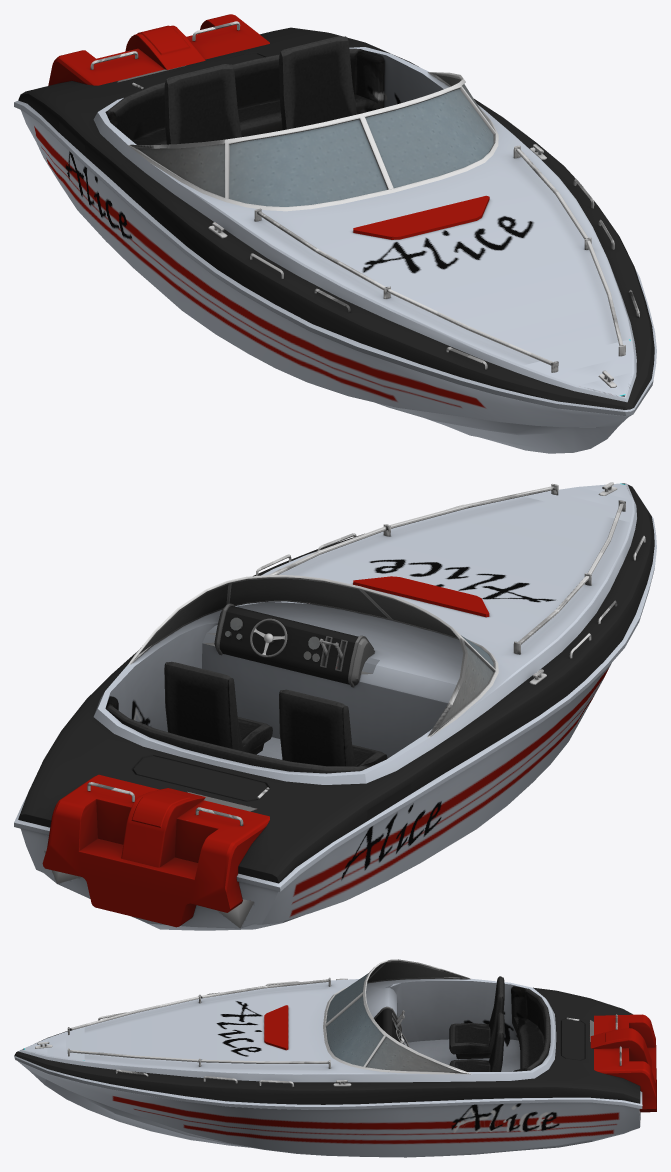
The model's file is boat.fbx.
3 views of the same model, one above another, from view 1: azimuth 30°, elevation 25°; view 2: azimuth 150°, elevation 25°; view 3: azimuth 270°, elevation 25° (orthographic). The views are drawn at different scales.
Parts seen in each view (by area): view 1: Boat1; view 2: Boat1; view 3: Boat1.
Boxes of the visible parts, x1,y1,x2,y2 form: Boat1: [14, 14, 656, 453]; Boat1: [14, 482, 656, 930]; Boat1: [14, 959, 656, 1157].
Size of the model in its own units: 105 by 67.95 by 252.
